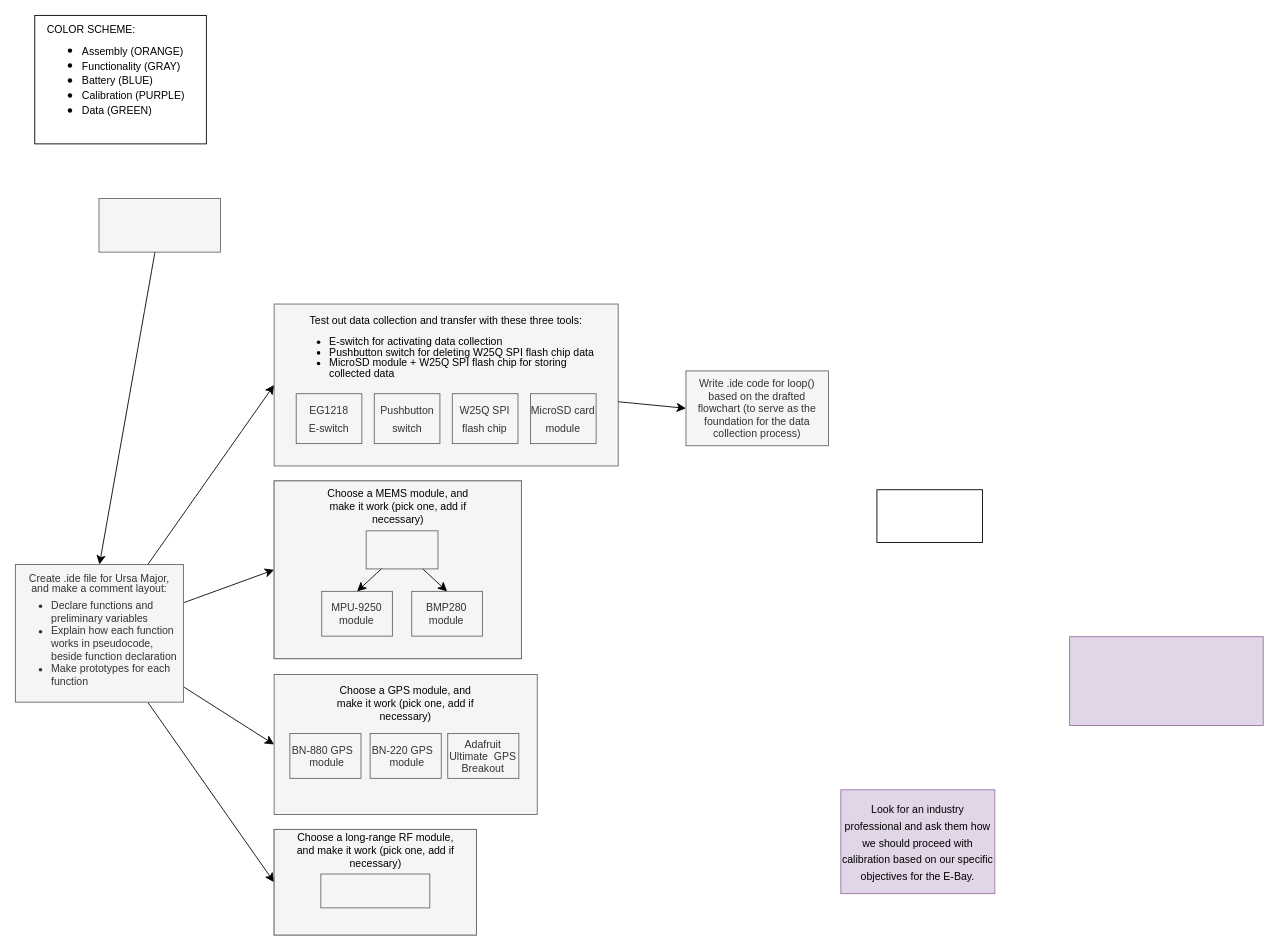
Some shapes in this 1279 by 950 pixel diagram are drawn without their labels. Here are the shapes that lost their labels. From the top down, the box of each, then its label:
(98, 198, 220, 252): Draw a flowchart for the code’s setup() and loop()
(876, 489, 983, 543): Apply Kalman filter to the MEMS module
(365, 530, 438, 569): GY-91 multi-sensor module
(1069, 636, 1263, 726): Perform calibration tests
(320, 873, 430, 908): RFM95W LoRa module
